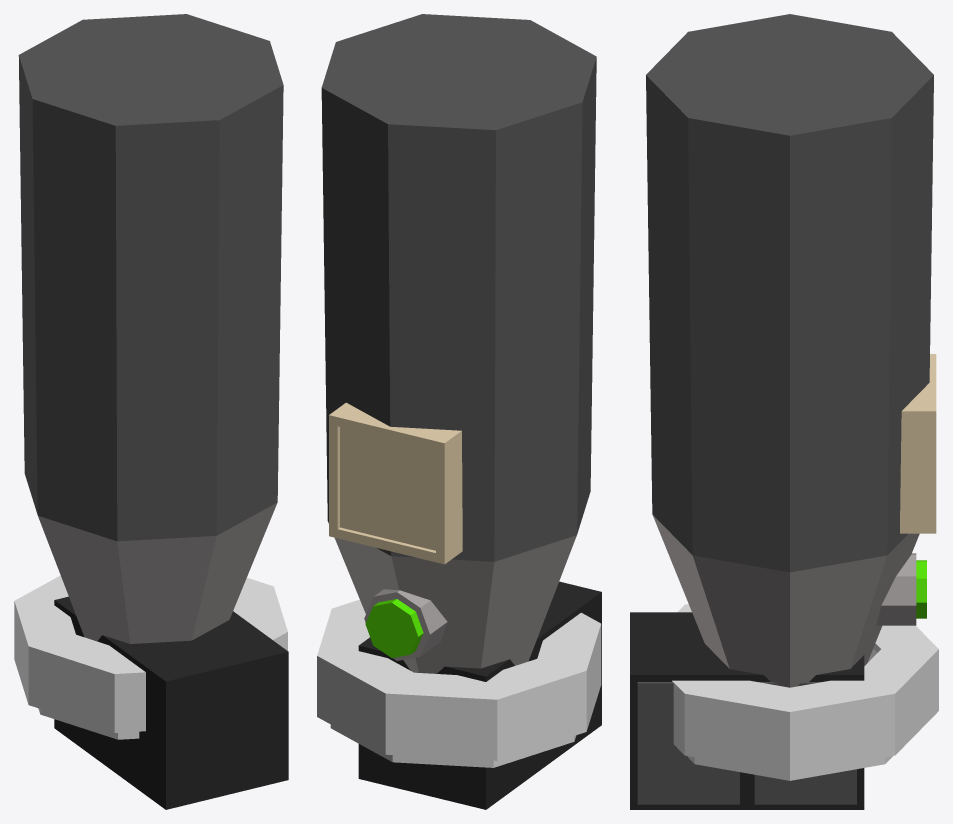
File: BOPPER.fbx
3 renders of one model, left to right at view 1: azimuth 30°, elevation 25°; view 2: azimuth 150°, elevation 25°; view 3: azimuth 270°, elevation 25°, orthographic. The views are drawn at different scales.
Parts seen in each view (by area): view 1: Circle.003, Cube, Circle.002, Circle; view 2: Circle.003, Circle, Circle.002, Cube.011, Cube, Circle.001; view 3: Circle.003, Circle, Circle.002, Cube.003, Cube, Cube.011, Circle.001.
Part boxes in pixels (<box>): Circle.003: <box>18,14,283,541</box>; Cube: <box>54,596,288,809</box>; Circle.002: <box>38,502,277,643</box>; Circle: <box>14,575,287,739</box>; Circle.003: <box>321,14,596,561</box>; Circle: <box>317,599,601,767</box>; Circle.002: <box>328,521,576,673</box>; Cube.011: <box>329,402,462,564</box>; Cube: <box>358,581,601,809</box>; Circle.001: <box>365,599,423,657</box>; Circle.003: <box>646,14,933,572</box>; Circle: <box>672,604,938,780</box>; Circle.002: <box>652,514,919,687</box>; Cube.003: <box>637,682,856,804</box>; Cube: <box>630,612,864,809</box>; Cube.011: <box>900,354,936,533</box>; Circle.001: <box>916,560,926,618</box>.
Bounding box in the file's own units: 400 × 1043 × 415.
